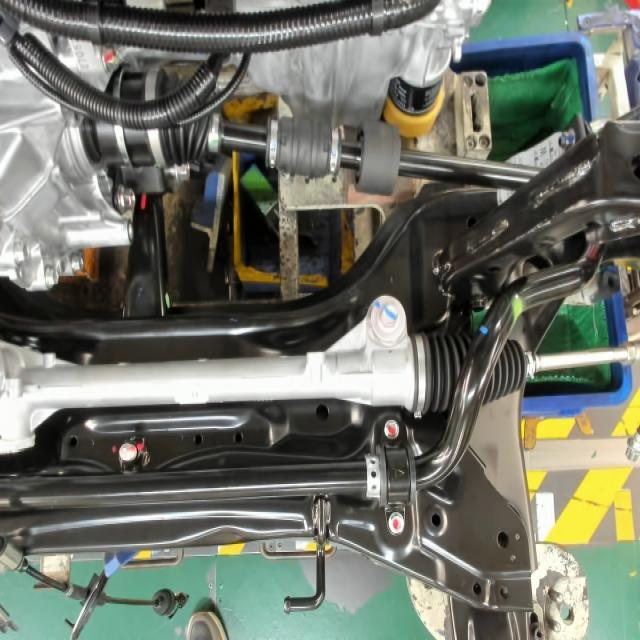Bar Stabilizer-HJ: (510, 292, 525, 326)
